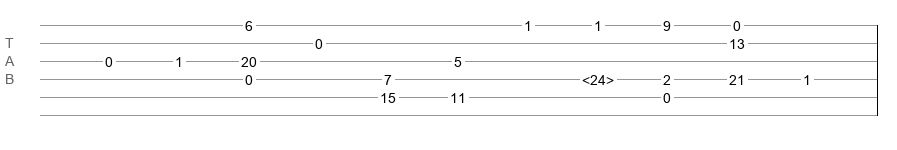0: (105, 54, 113, 64), (245, 72, 253, 82), (315, 36, 323, 46), (663, 90, 671, 100), (733, 18, 741, 28)
1: (175, 54, 183, 64), (524, 18, 532, 28), (594, 18, 602, 28), (803, 72, 811, 82)
11: (450, 90, 466, 100)
13: (729, 36, 745, 46)
15: (380, 90, 396, 100)
2: (663, 72, 671, 82)
20: (241, 54, 257, 64)
21: (729, 72, 745, 82)
5: (454, 54, 462, 64)
6: (245, 18, 253, 28)
7: (384, 72, 392, 82)
9: (663, 18, 671, 28)
harmonic: (582, 72, 614, 82)
